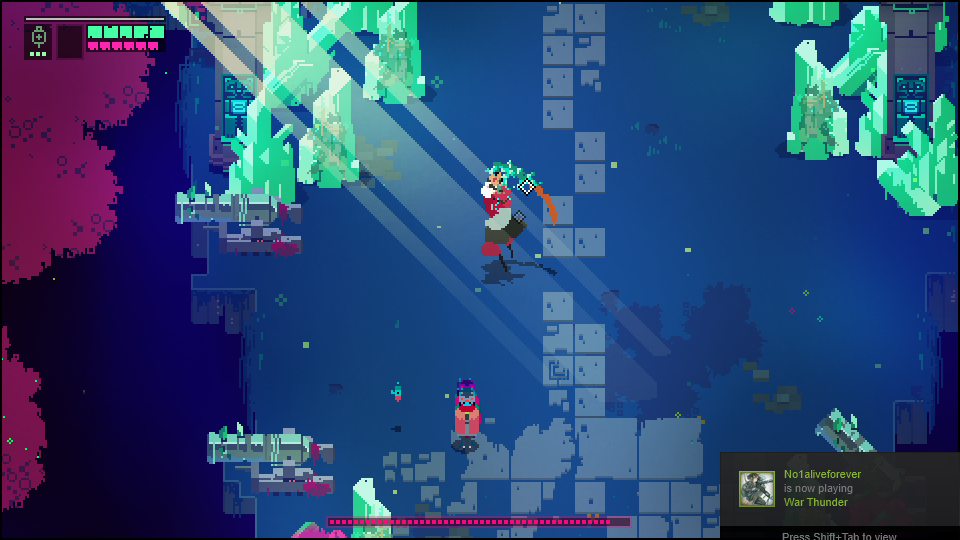hanged_man: (477, 159, 549, 280)
player: (449, 390, 481, 449)
